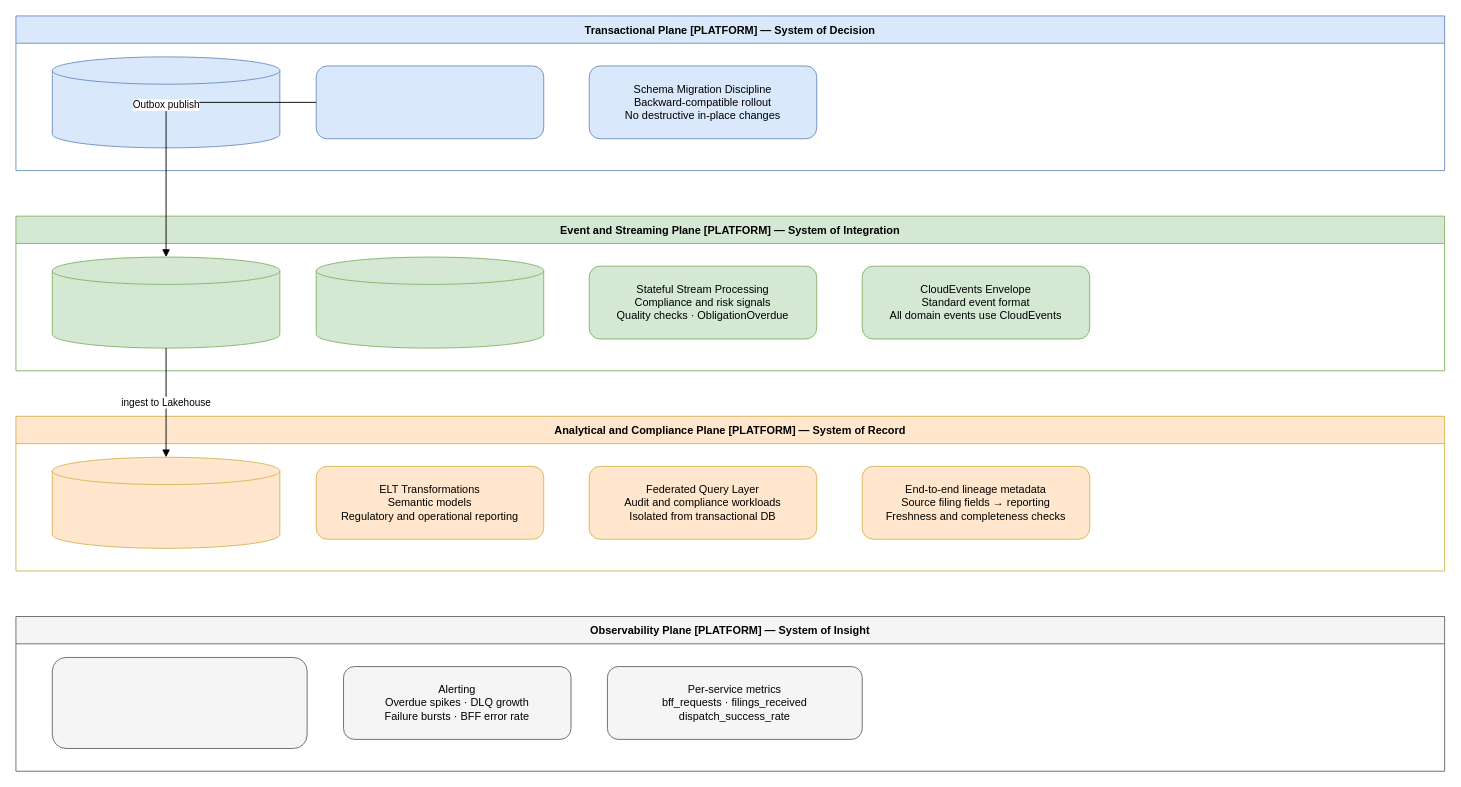
Some shapes in this 1461 by 787 pixel diagram are drawn without their labels. The shapes that lost their labels are listed below. From the top down, each one's centre as x and y in pixels, then its label:
At point 165,102: "ACID Relational DB Filings · Assessments · Claims Obligations · Registrations".
At point 429,102: "Outbox Tables Reliable event publication Transactional outbox pattern".
At point 165,302: "Kafka-compatible Broker Domain event backbone All async inter-service comms".
At point 429,302: "Schema Registry Avro / Protobuf schemas CI/CD compatibility gates".
At point 165,502: "Lakehouse Apache Iceberg open table format Object storage · Immutable".
At point 179,702: "OpenTelemetry Traces · Metrics · Logs trace_id end-to-end incl. portal BFF".
